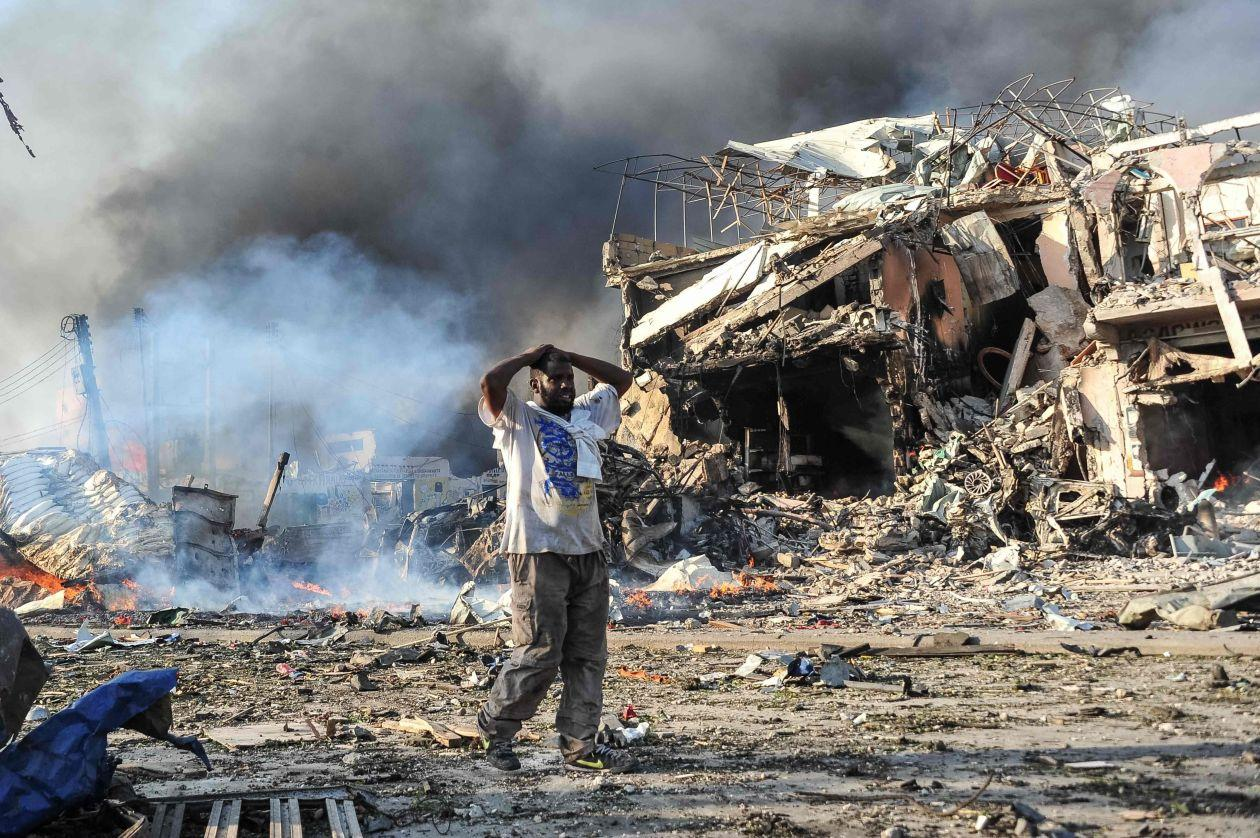fire: (0, 566, 103, 605), (712, 559, 777, 601), (667, 573, 708, 596), (291, 577, 333, 597), (108, 598, 135, 627), (322, 606, 368, 620), (623, 589, 652, 608), (117, 578, 144, 595)
smoke: (0, 144, 627, 493), (0, 0, 1260, 138), (106, 495, 507, 612)
